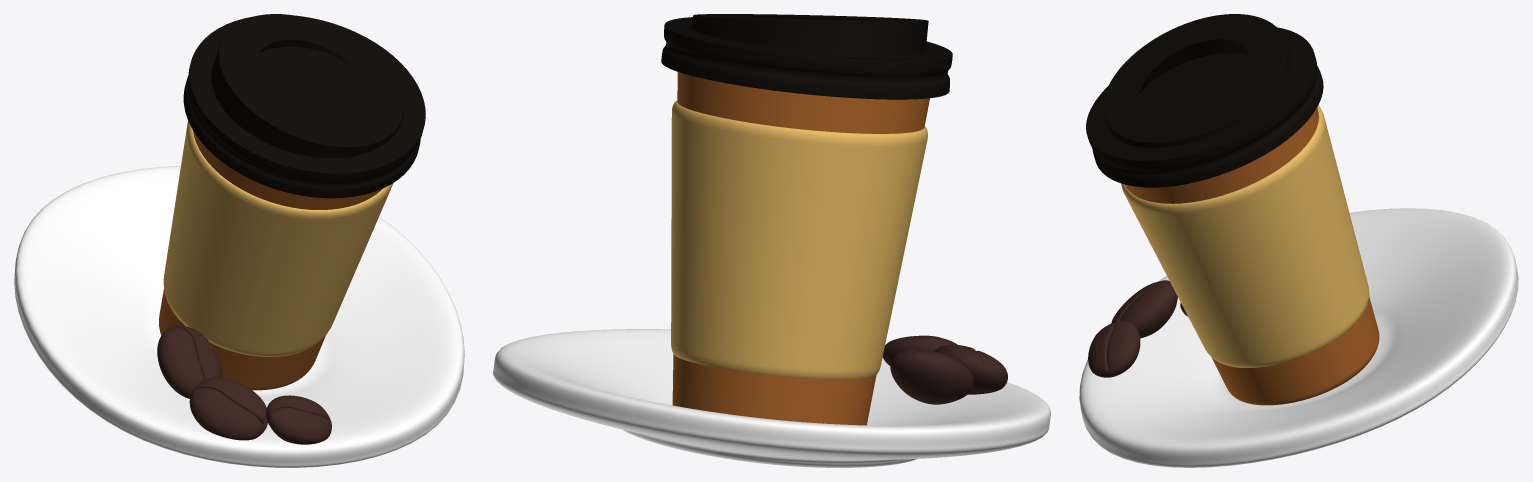
3 renders of one model, left to right at view 1: azimuth 30°, elevation 25°; view 2: azimuth 150°, elevation 25°; view 3: azimuth 270°, elevation 25°, orthographic. The views are drawn at different scales.
Visible parts, largest first — view 1: Cube.001, Cylinder.001, Cylinder.002, Cylinder, Cube.003, Cube.005, Cube.004; view 2: Cylinder.002, Cube.001, Cylinder.001, Cylinder, Cube.005, Cube.003, Cube.004; view 3: Cube.001, Cylinder.002, Cylinder.001, Cylinder, Cube.004, Cube.003.
Part boxes in pixels (x1,y1,x2,y2): Cube.001: (14, 166, 464, 467); Cylinder.001: (183, 14, 425, 198); Cylinder.002: (163, 121, 393, 356); Cylinder: (159, 130, 382, 390); Cube.003: (189, 377, 267, 440); Cube.005: (157, 325, 221, 398); Cube.004: (266, 395, 331, 444); Cylinder.002: (671, 100, 927, 379); Cube.001: (493, 329, 1050, 467); Cylinder.001: (661, 14, 952, 99); Cylinder: (672, 72, 929, 425); Cube.005: (890, 349, 973, 404); Cube.003: (934, 344, 1007, 394); Cube.004: (882, 335, 957, 365); Cube.001: (1079, 208, 1518, 467); Cylinder.002: (1121, 105, 1369, 367); Cylinder.001: (1086, 14, 1323, 187); Cylinder: (1124, 108, 1379, 405); Cube.004: (1088, 320, 1140, 377); Cube.003: (1111, 280, 1177, 338).
Size of the model in its own units: 5.14 by 4.67 by 4.95.
